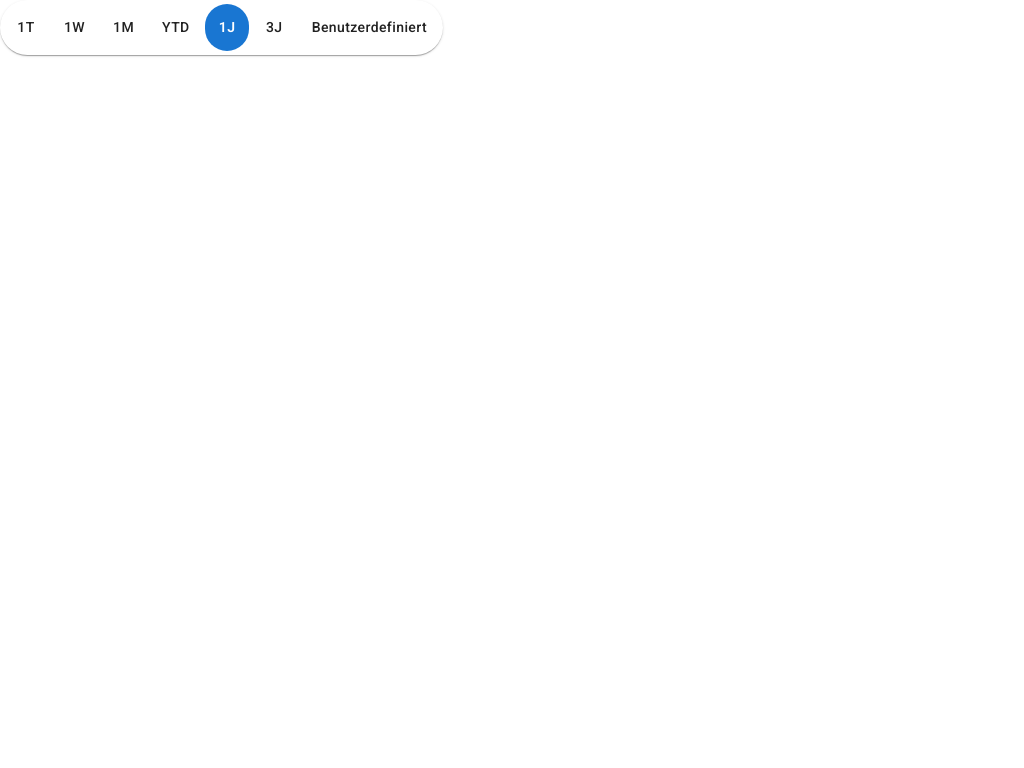
Test: PeriodSelector failures › shows the connection message when a preset save is rejected
Click the button "1M": (123, 27) [100, 4, 146, 50]
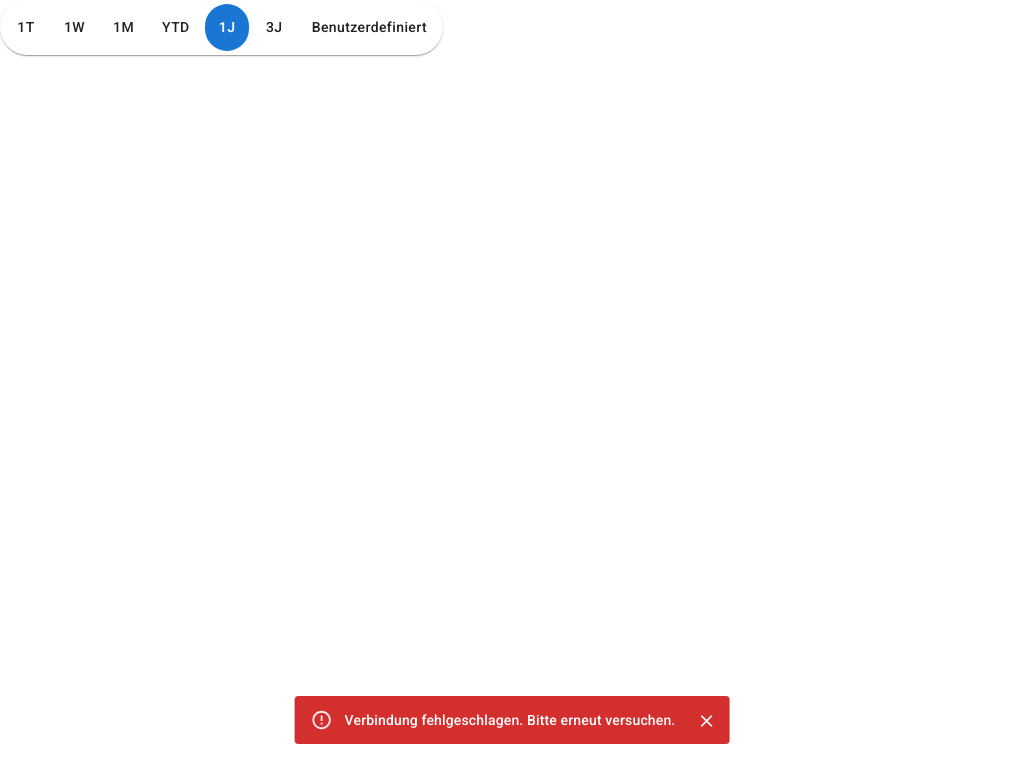
Expected: the message reads "Verbindung fehlgeschlagen. Bitte erneut versuchen.", [345, 712, 675, 728]
